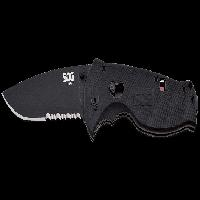knife: (1, 55, 200, 144)
